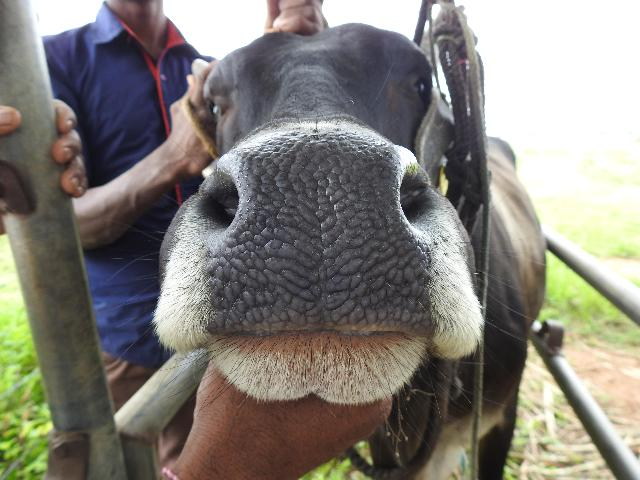Muzzle: (228, 146, 408, 330)
